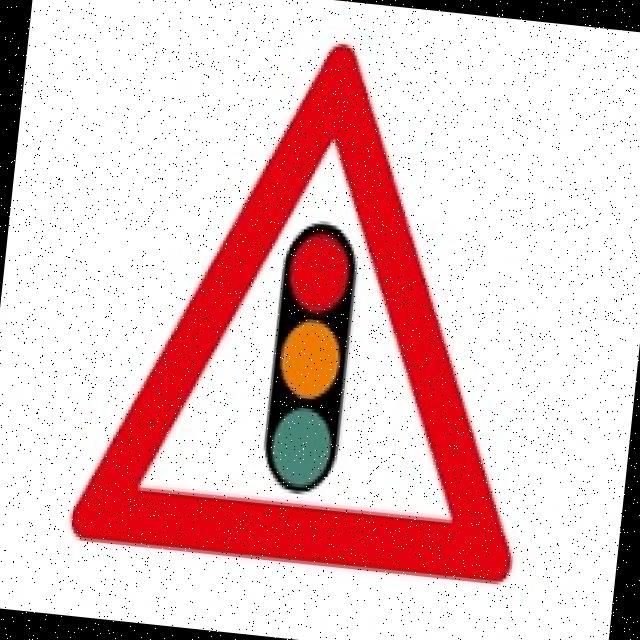light_traffic: (62, 0, 568, 594)
